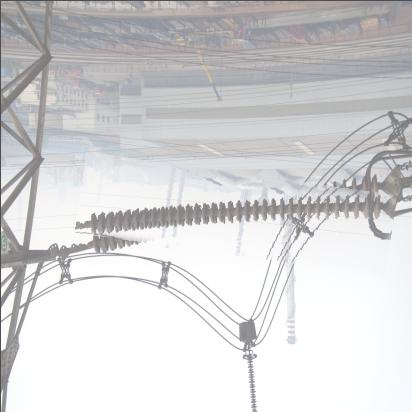insulator: (77, 162, 395, 266)
